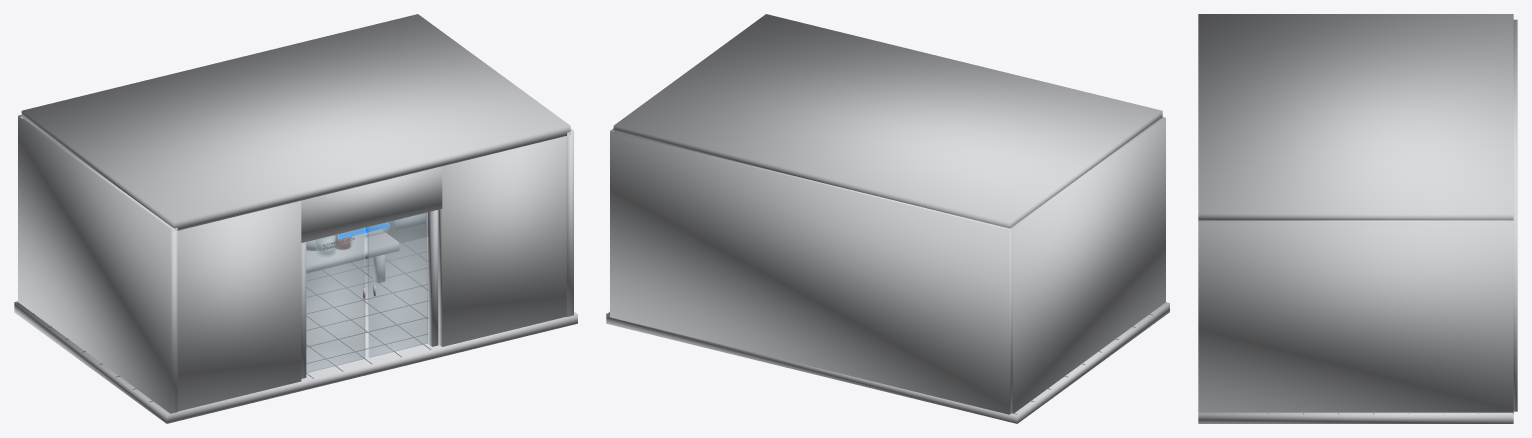
Rendered from LabVerseXR_Blender5_BiologyLab_COMPLETE.glb.
3 views of the same model, side by side, from view 1: azimuth 30°, elevation 25°; view 2: azimuth 150°, elevation 25°; view 3: azimuth 270°, elevation 25° (orthographic). The views are drawn at different scales.
Visible parts, largest first — view 1: LAB_Ceiling, LAB_Left_Side_Wall, LAB_Front_Wall_Right, LAB_Front_Wall_Left, LAB_Floor, LAB_Entrance_Door_Right, LAB_Entrance_Door_Left, LAB_Front_Wall_Top, LAB_Experiment_Table, LAB_Door_Frame_Right, LAB_Right_Side_Wall, LAB_Door_Frame_Left (+1 smaller); view 2: LAB_Back_Wall, LAB_Ceiling, LAB_Left_Side_Wall, LAB_Floor; view 3: LAB_Ceiling, LAB_Right_Side_Wall, LAB_Floor, LAB_Back_Wall.
Boxes of the visible parts, x1,y1,x2,y2 form: LAB_Ceiling: [21, 14, 570, 230]; LAB_Left_Side_Wall: [18, 117, 177, 413]; LAB_Front_Wall_Right: [438, 136, 566, 346]; LAB_Front_Wall_Left: [177, 200, 301, 411]; LAB_Floor: [14, 237, 577, 423]; LAB_Entrance_Door_Right: [367, 212, 427, 357]; LAB_Entrance_Door_Left: [306, 227, 365, 372]; LAB_Front_Wall_Top: [301, 166, 442, 242]; LAB_Experiment_Table: [306, 230, 399, 273]; LAB_Door_Frame_Right: [428, 210, 438, 346]; LAB_Right_Side_Wall: [566, 129, 573, 316]; LAB_Door_Frame_Left: [301, 242, 306, 378]; LAB_Back_Wall: [610, 130, 1012, 414]; LAB_Ceiling: [613, 14, 1162, 228]; LAB_Left_Side_Wall: [1011, 117, 1165, 413]; LAB_Floor: [606, 302, 1169, 423]; LAB_Ceiling: [1198, 14, 1513, 220]; LAB_Right_Side_Wall: [1198, 220, 1513, 412]; LAB_Floor: [1198, 412, 1513, 423]; LAB_Back_Wall: [1510, 19, 1517, 411].
Size of the model in its own units: 14 by 6.5 by 9.12.
